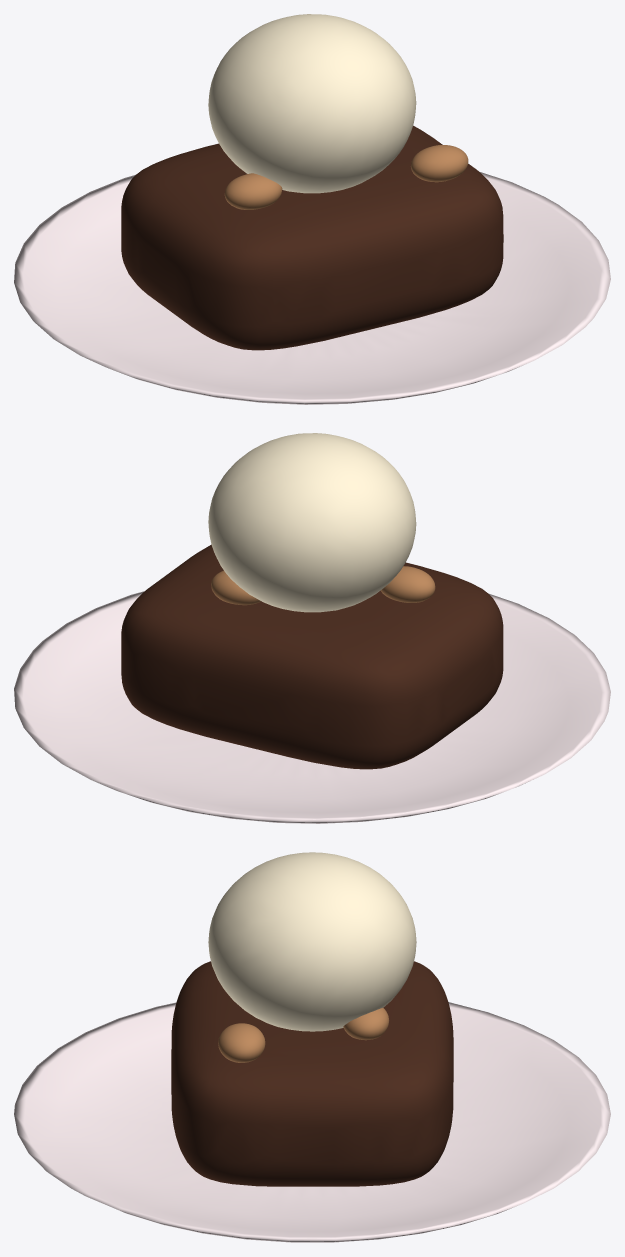
The model's file is comida_brownie.glb.
3 views of the same model, one above another, from view 1: azimuth 30°, elevation 25°; view 2: azimuth 150°, elevation 25°; view 3: azimuth 270°, elevation 25° (orthographic).
Parts seen in each view (by area): view 1: plato.009, brownie.001, helado.001, nuez 2.001, nuez 0.001; view 2: plato.009, brownie.001, helado.001, nuez 0.001, nuez 1.001; view 3: plato.009, brownie.001, helado.001, nuez 2.001, nuez 1.001.
Boxes of the visible parts, left/top/right/bottom form: plato.009: left=14, top=172, right=610, bottom=404; brownie.001: left=121, top=126, right=503, bottom=350; helado.001: left=208, top=14, right=416, bottom=193; nuez 2.001: left=410, top=145, right=468, bottom=182; nuez 0.001: left=224, top=173, right=282, bottom=209; plato.009: left=14, top=591, right=610, bottom=823; brownie.001: left=121, top=544, right=503, bottom=769; helado.001: left=208, top=433, right=416, bottom=612; nuez 0.001: left=380, top=566, right=435, bottom=602; nuez 1.001: left=211, top=570, right=260, bottom=605; plato.009: left=14, top=1002, right=610, bottom=1242; brownie.001: left=171, top=961, right=453, bottom=1186; helado.001: left=208, top=852, right=416, bottom=1031; nuez 2.001: left=218, top=1023, right=265, bottom=1062; nuez 1.001: left=343, top=1008, right=389, bottom=1040.
Bounding box in the file's own units: 0.3372 × 0.1831 × 0.3378.
